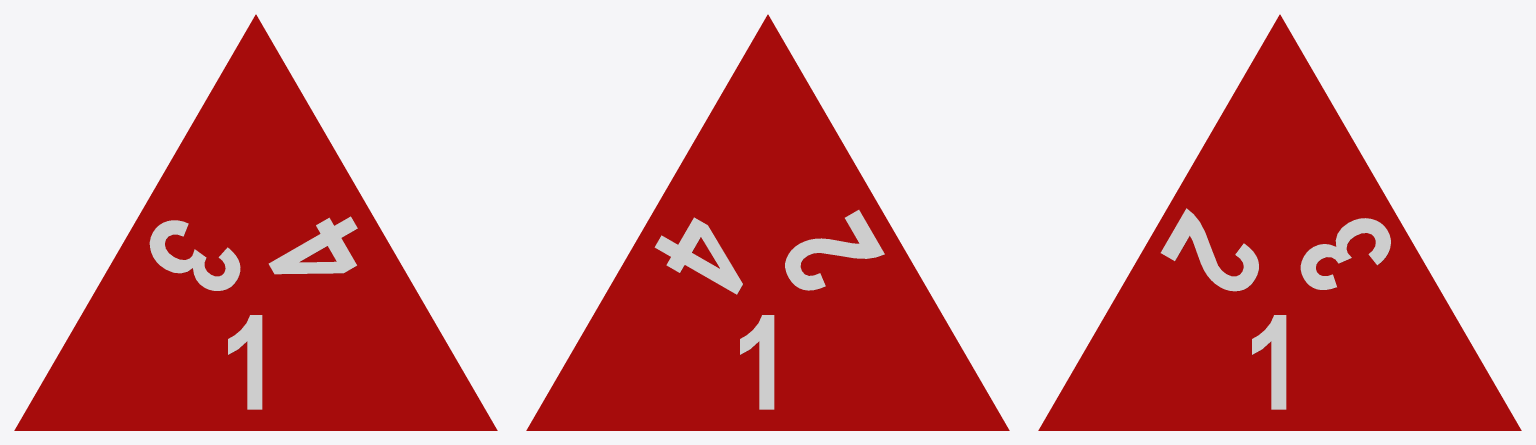
File: Game_Dice_D4_Red_01.fbx
3 views of the same model, side by side, from view 1: azimuth 30°, elevation 25°; view 2: azimuth 150°, elevation 25°; view 3: azimuth 270°, elevation 25° (orthographic).
Parts seen in each view (by area): view 1: Game_Dice_D4_Red_01; view 2: Game_Dice_D4_Red_01; view 3: Game_Dice_D4_Red_01.
Boxes of the visible parts, x1=… form: Game_Dice_D4_Red_01: x1=14, y1=14, x2=497, y2=430; Game_Dice_D4_Red_01: x1=526, y1=14, x2=1009, y2=430; Game_Dice_D4_Red_01: x1=1038, y1=14, x2=1521, y2=430.
Bounding box in the file's own units: 12.77 × 12.04 × 14.75.
